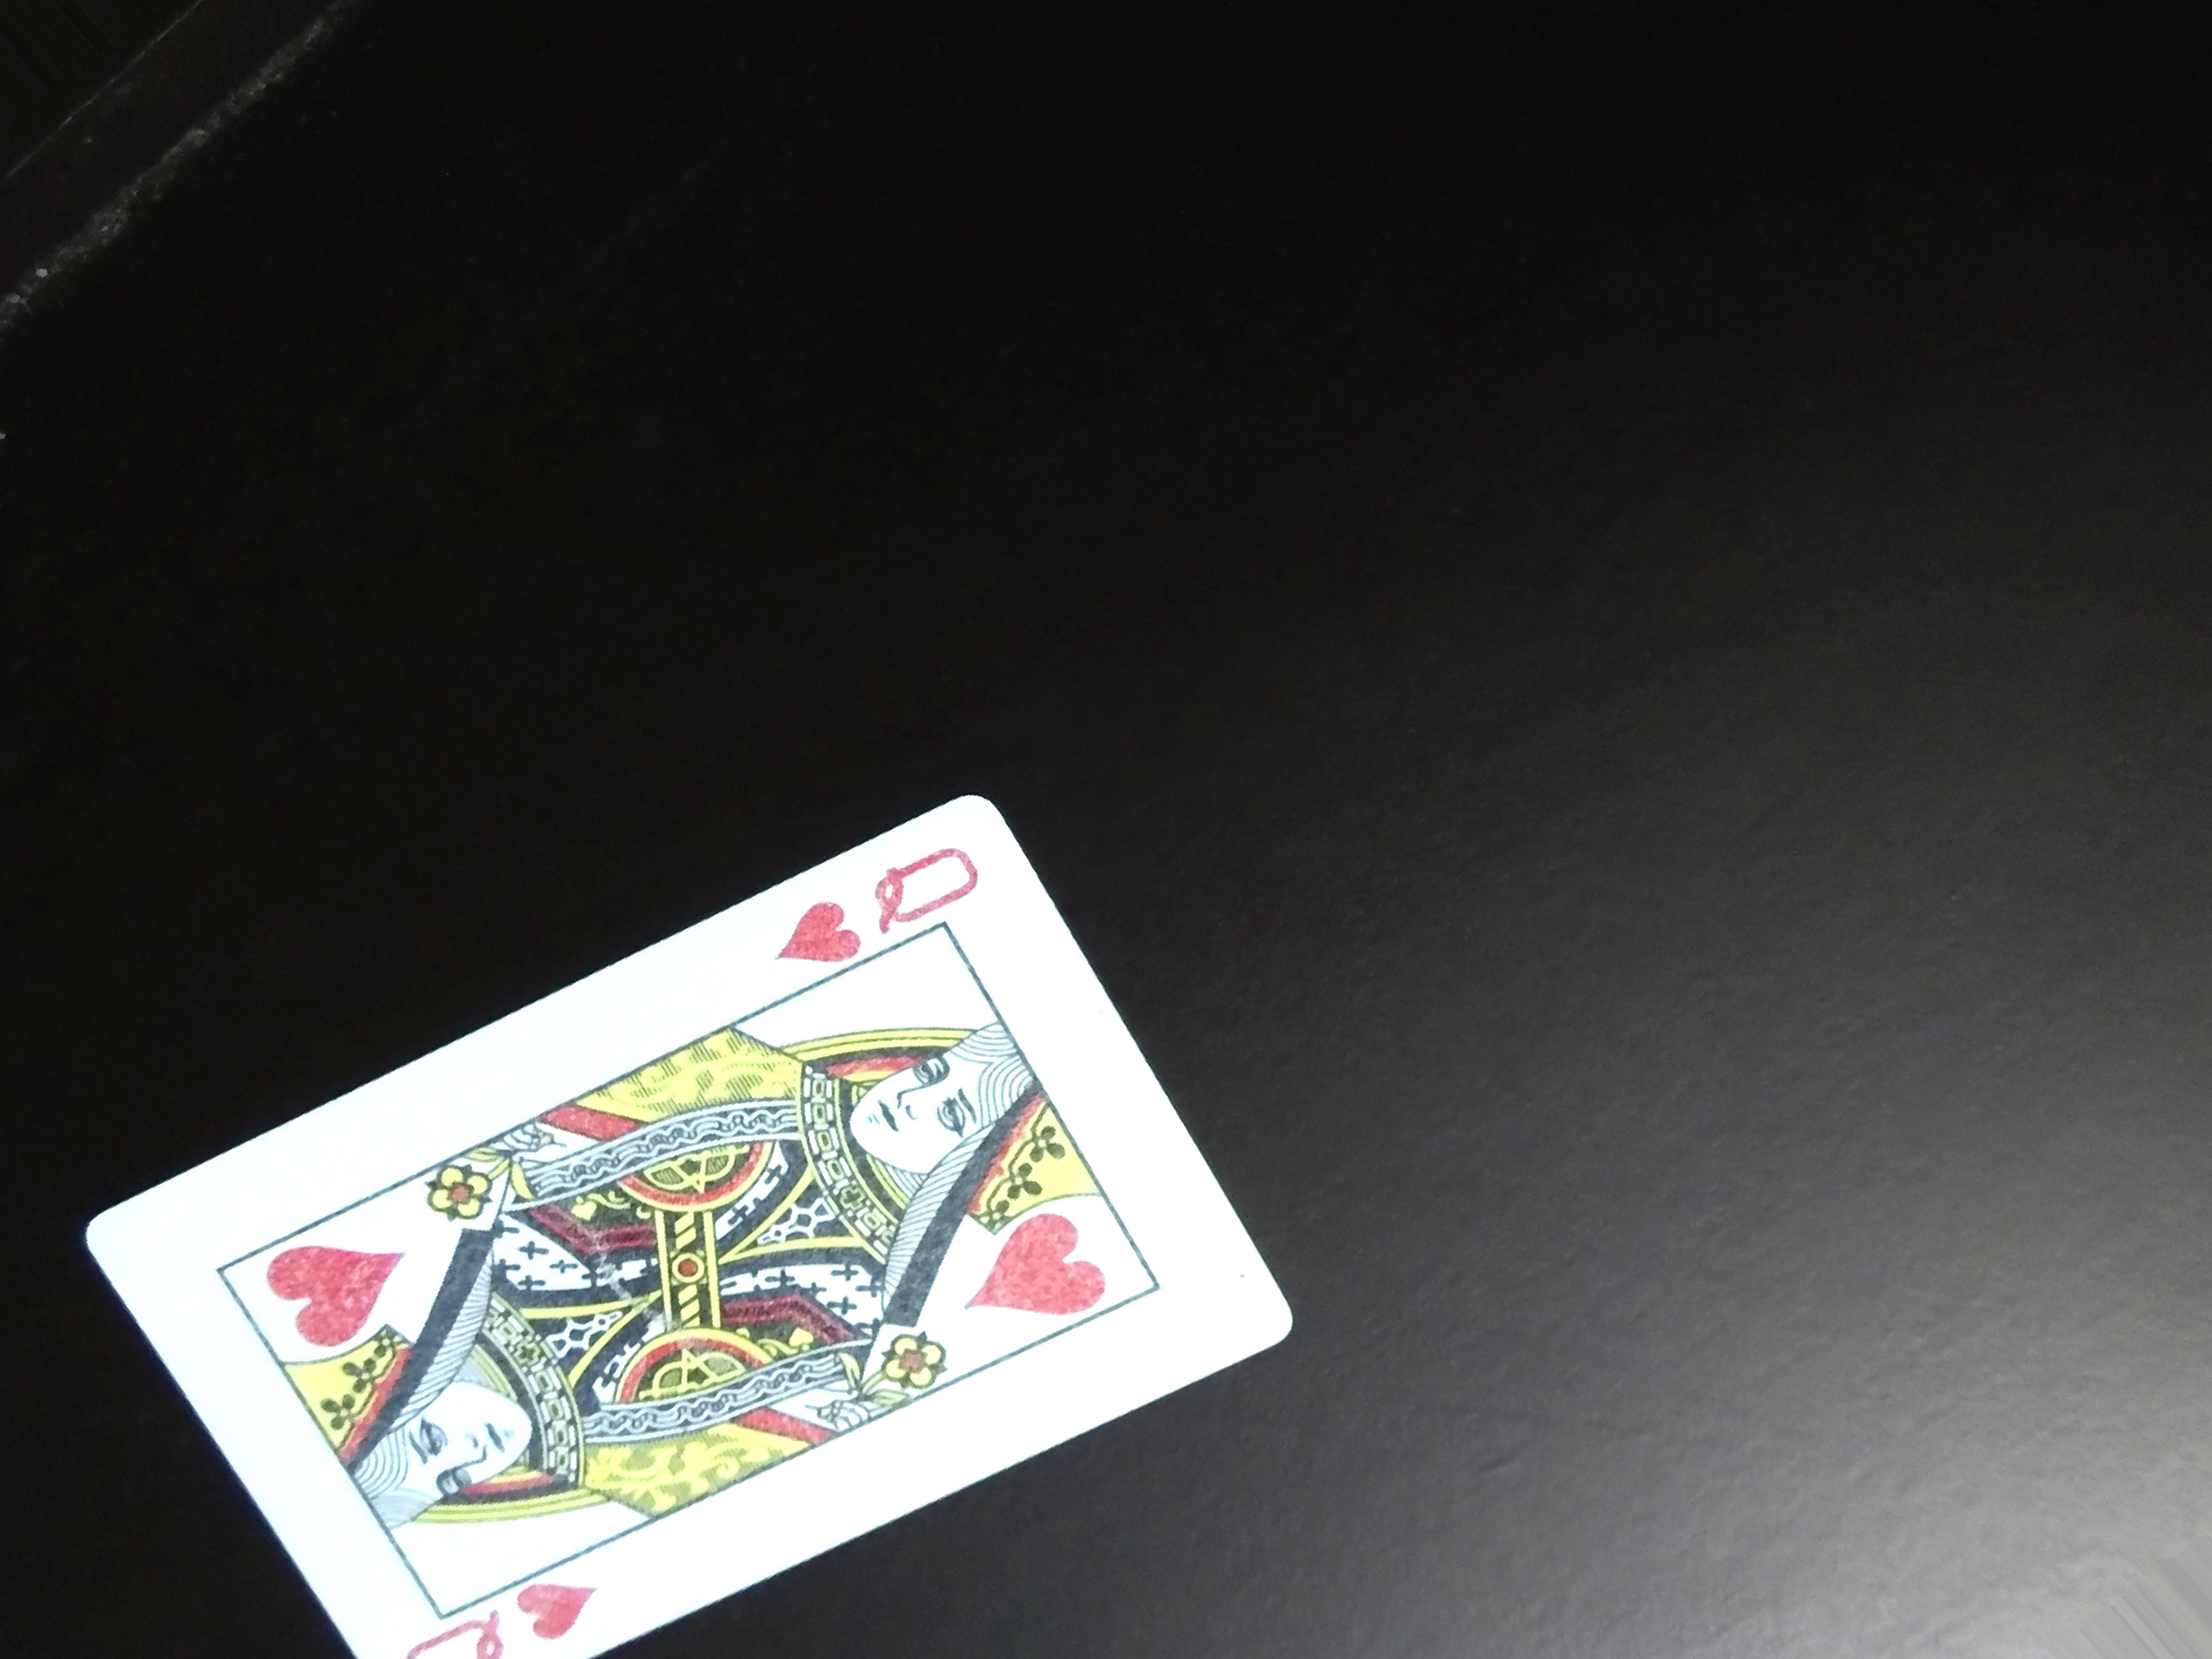QH: (766, 842, 1010, 985)
